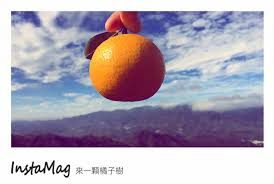orange: (86, 31, 168, 104)
